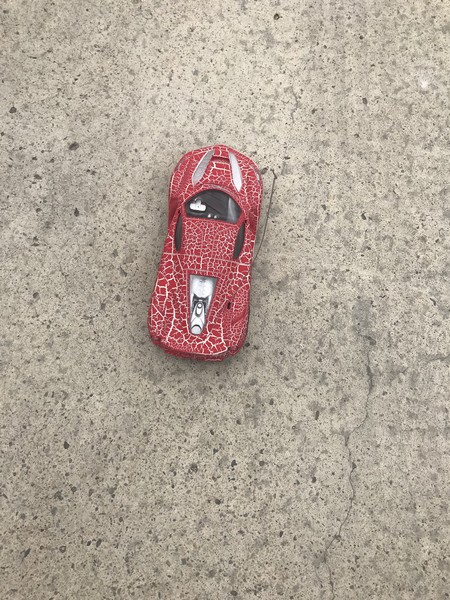RC: (146, 142, 265, 366)
